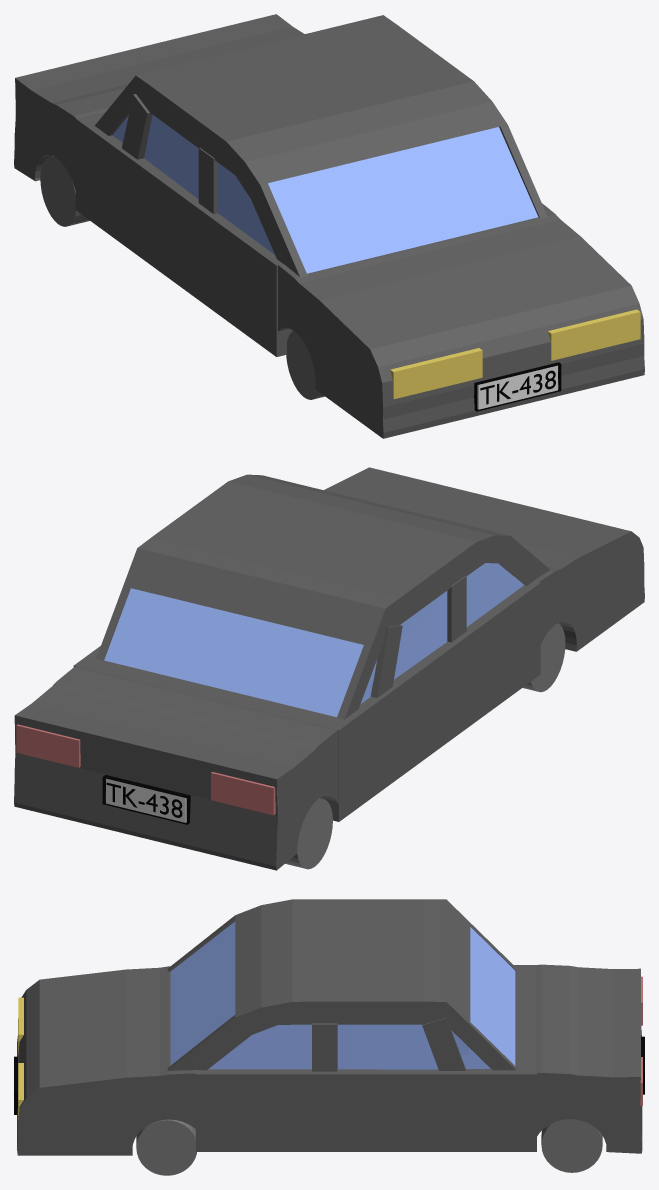
File: Car.fbx
3 views of the same model, one above another, from view 1: azimuth 30°, elevation 25°; view 2: azimuth 150°, elevation 25°; view 3: azimuth 270°, elevation 25° (orthographic). The views are drawn at different scales.
Parts seen in each view (by area): view 1: Cube; view 2: Cube; view 3: Cube.
Boxes of the visible parts, box(x1,y1,x2,y2) form: Cube: box(14, 14, 644, 438); Cube: box(14, 467, 644, 870); Cube: box(14, 899, 644, 1175).
Size of the model in its own units: 847 by 620 by 2062.
